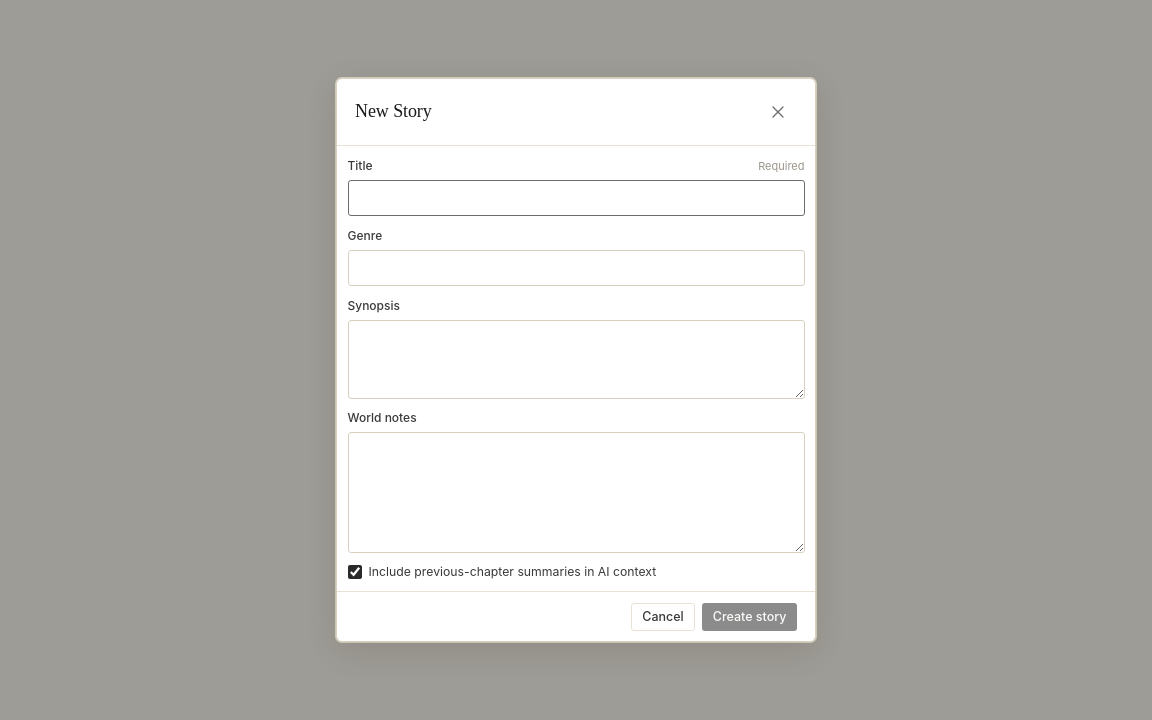
StoryModal (F6) › surfaces API error in the form-level alert
Type "Dune" into the field labelled "Title Required" at point(576, 198), box [348,180,804,216]
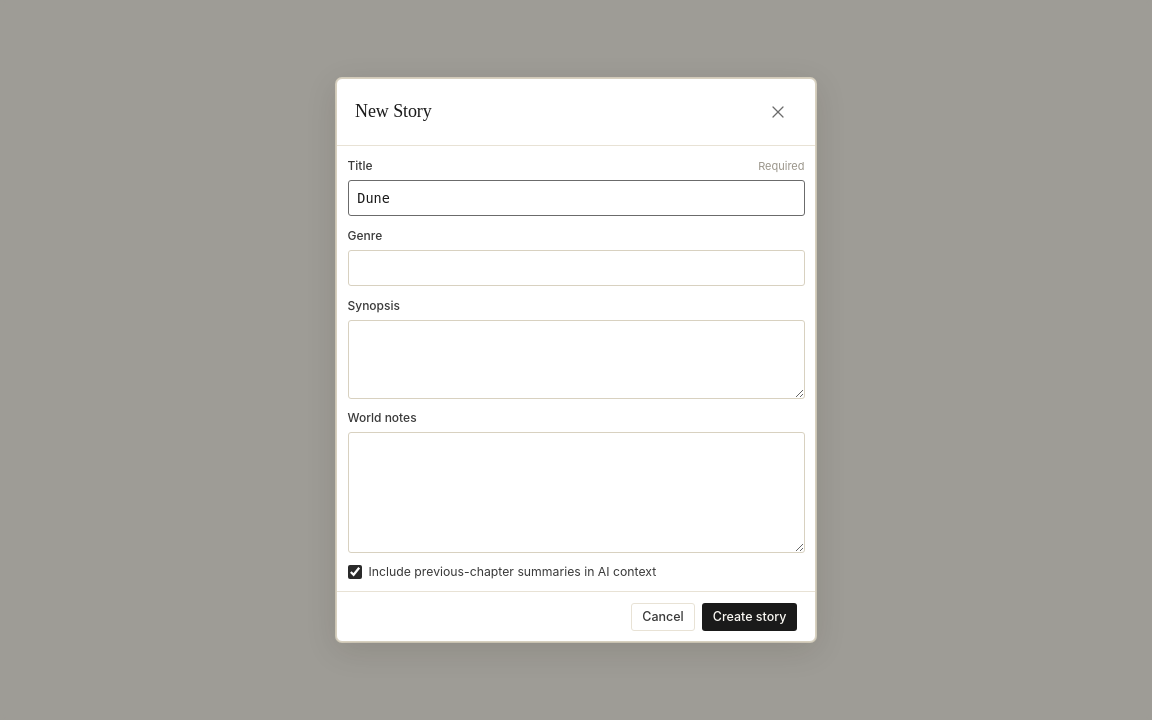
Click the button "Create story" at point(750, 617), box [702,603,797,631]
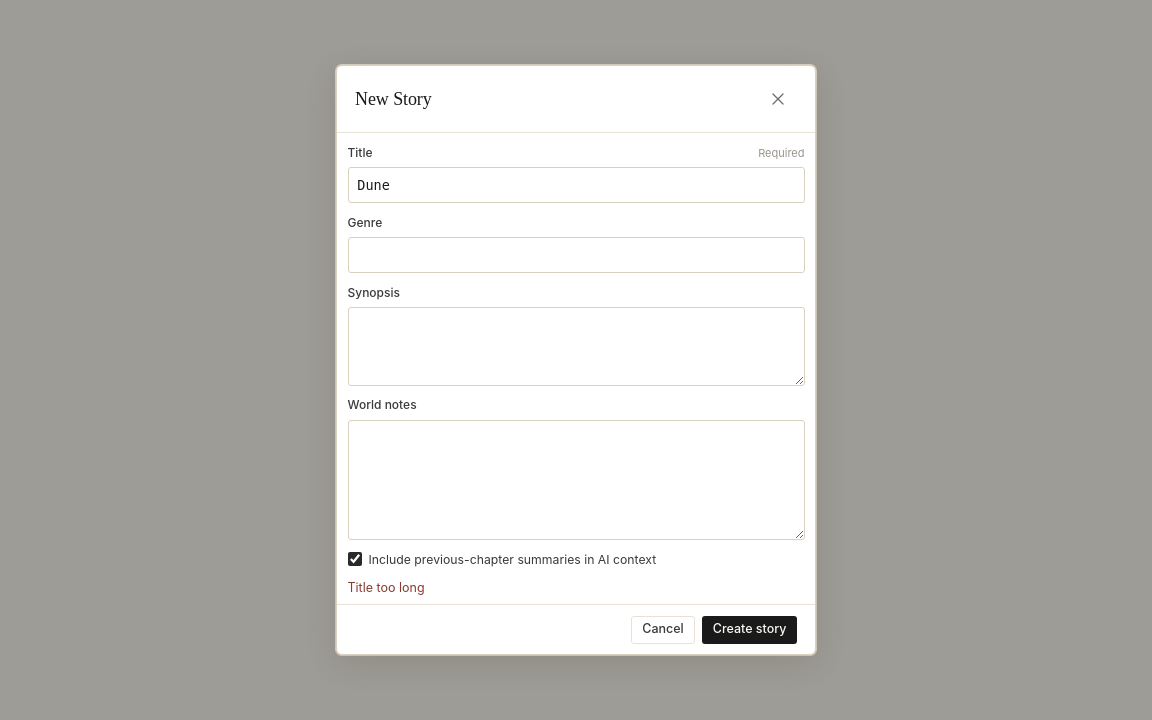
expect the message reads "Title too long": met, box [348,580,425,595]
